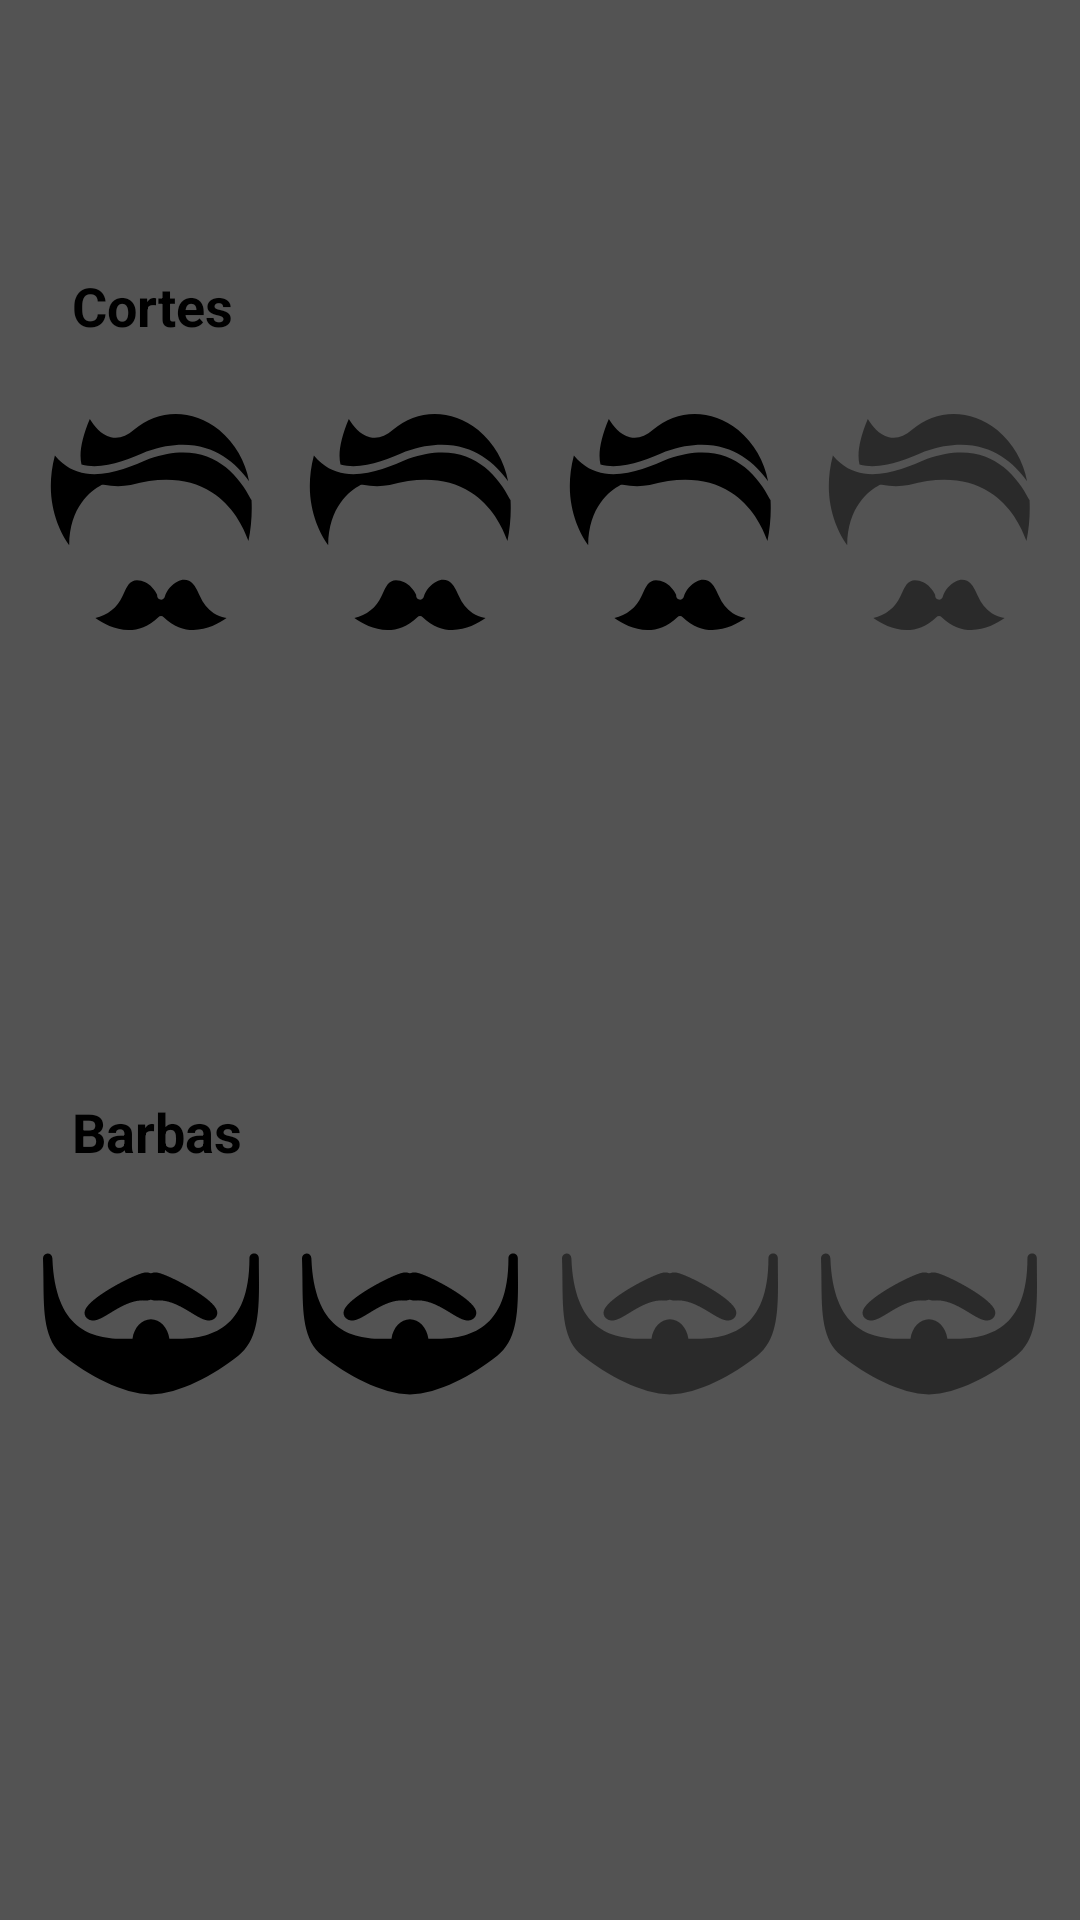

Where to tap for icons on this 1080w x 1920h app screen, as (x=x, y=y):
beard full: (x=151, y=1324), (x=410, y=1324)
beard less: (x=670, y=1324), (x=929, y=1324)
hairstyle full: (x=151, y=522), (x=410, y=522), (x=670, y=522)
hairstyle less: (x=929, y=522)
